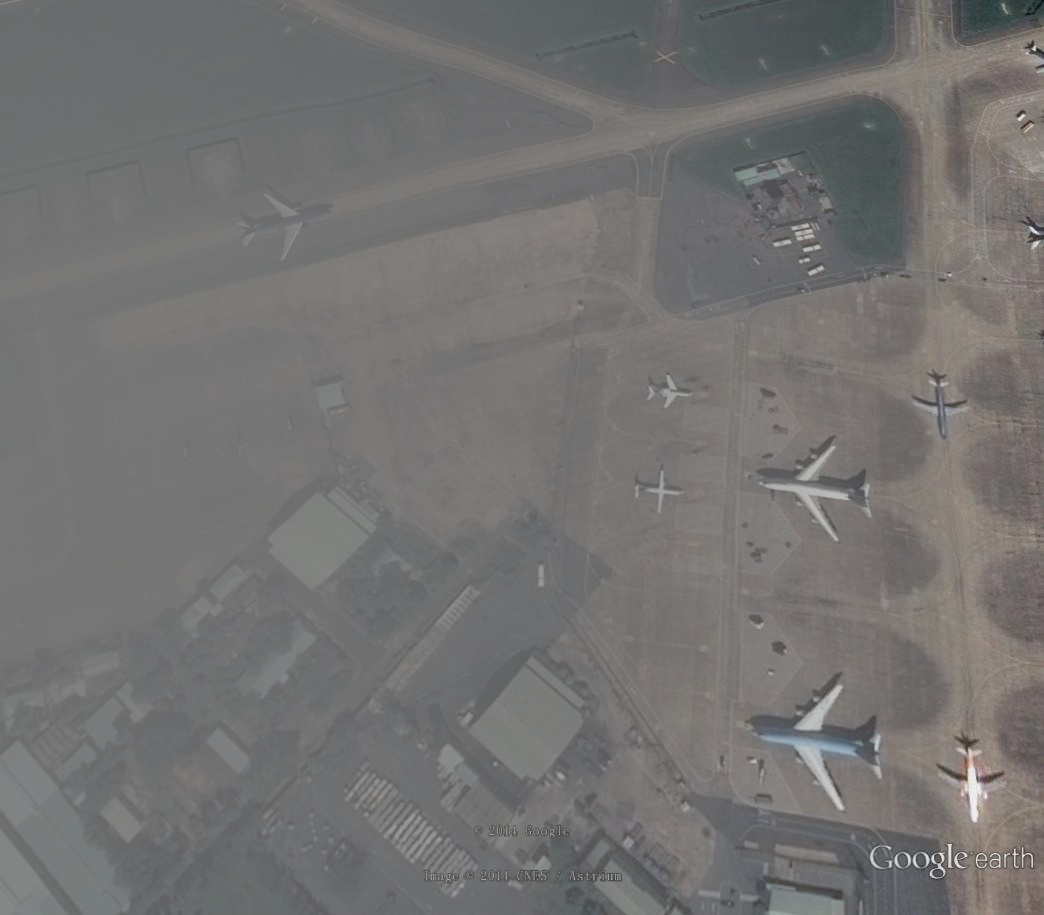aircraft: (746, 680, 887, 818), (754, 437, 876, 548), (236, 192, 336, 264), (936, 742, 1009, 825), (911, 374, 975, 445), (632, 464, 687, 519), (643, 372, 697, 412)
